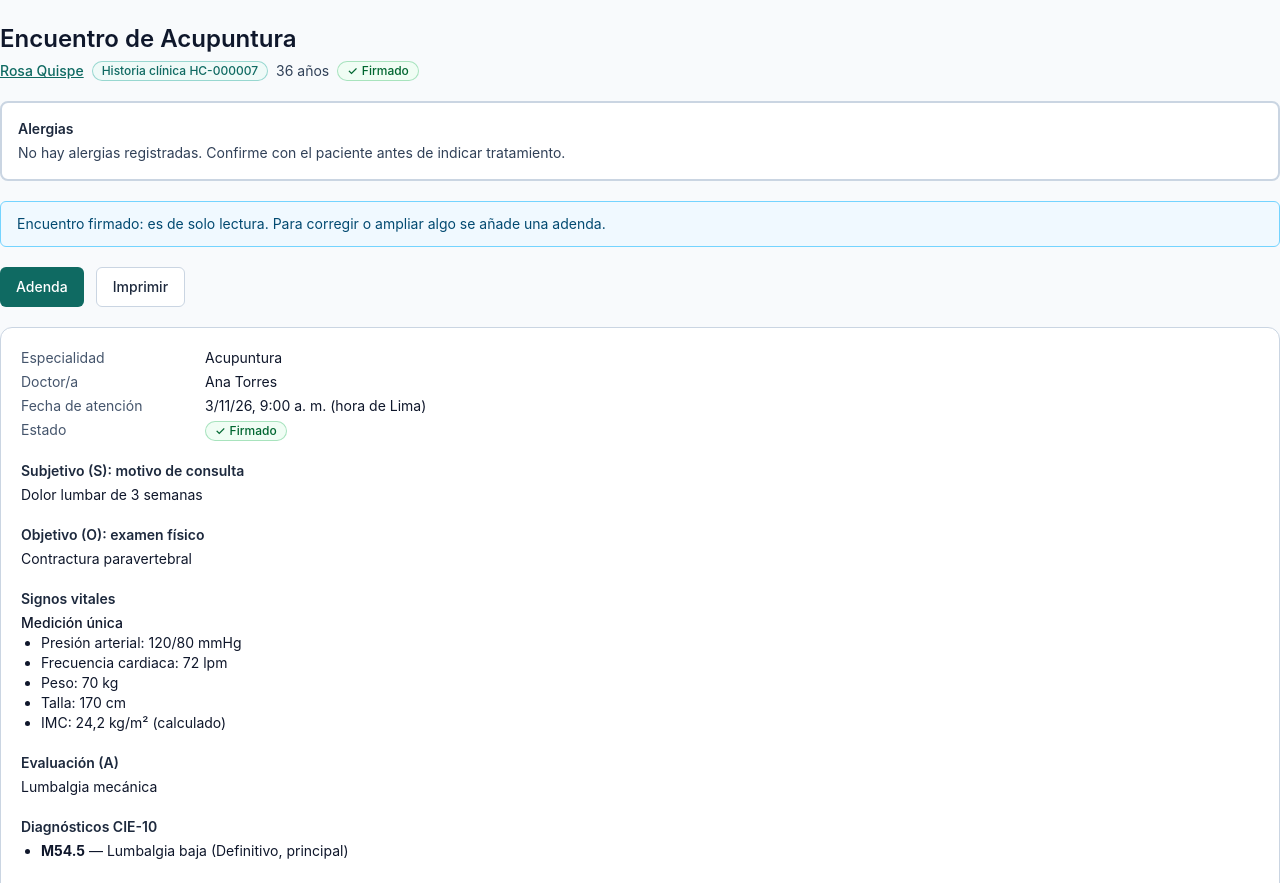
Test case: encuentro firmado: vista de solo lectura › Adenda exige motivo y texto, y al guardar aparece en la lista
Click the button "Adenda" at (42, 287), box [0,267,84,307]
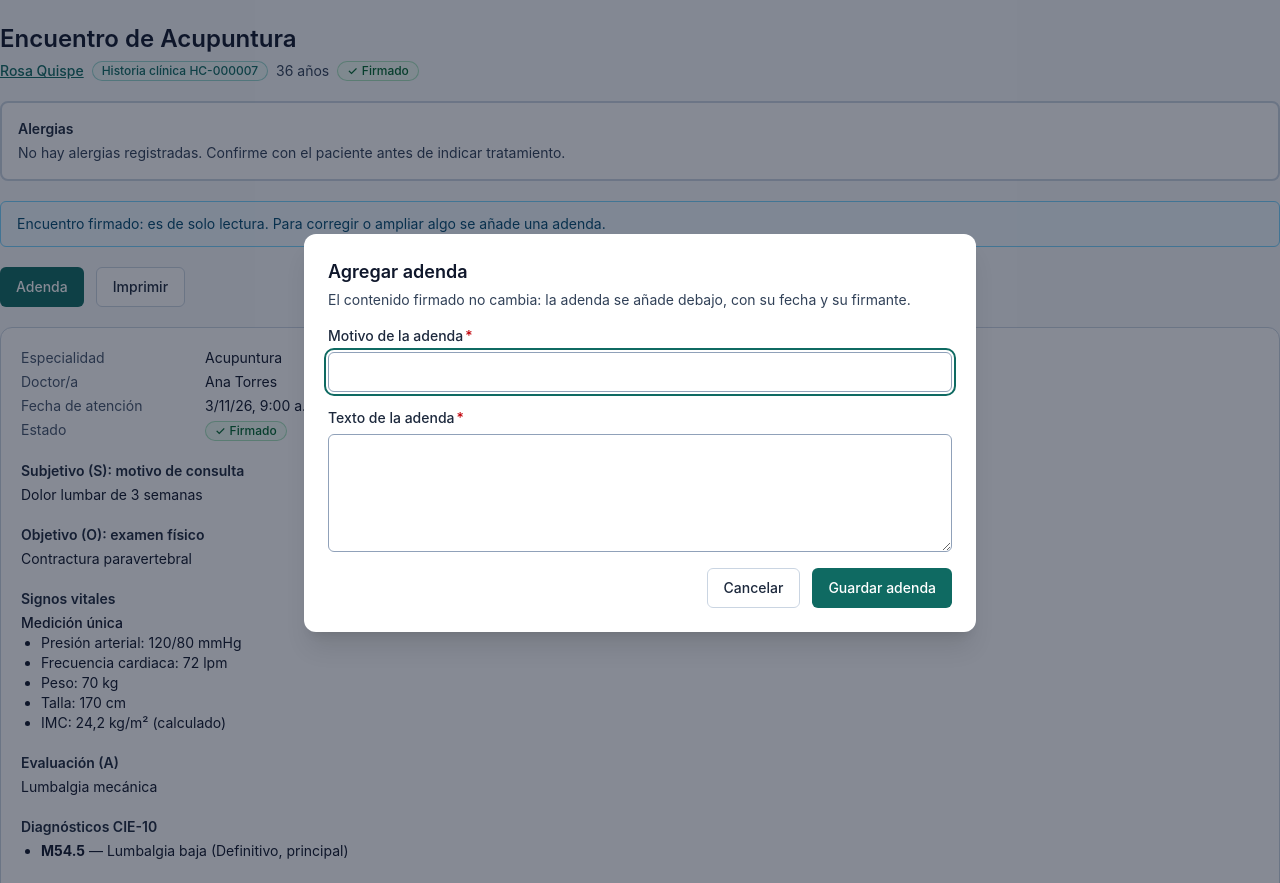
Click the button "Guardar adenda" at (882, 588), box [812,568,952,608]
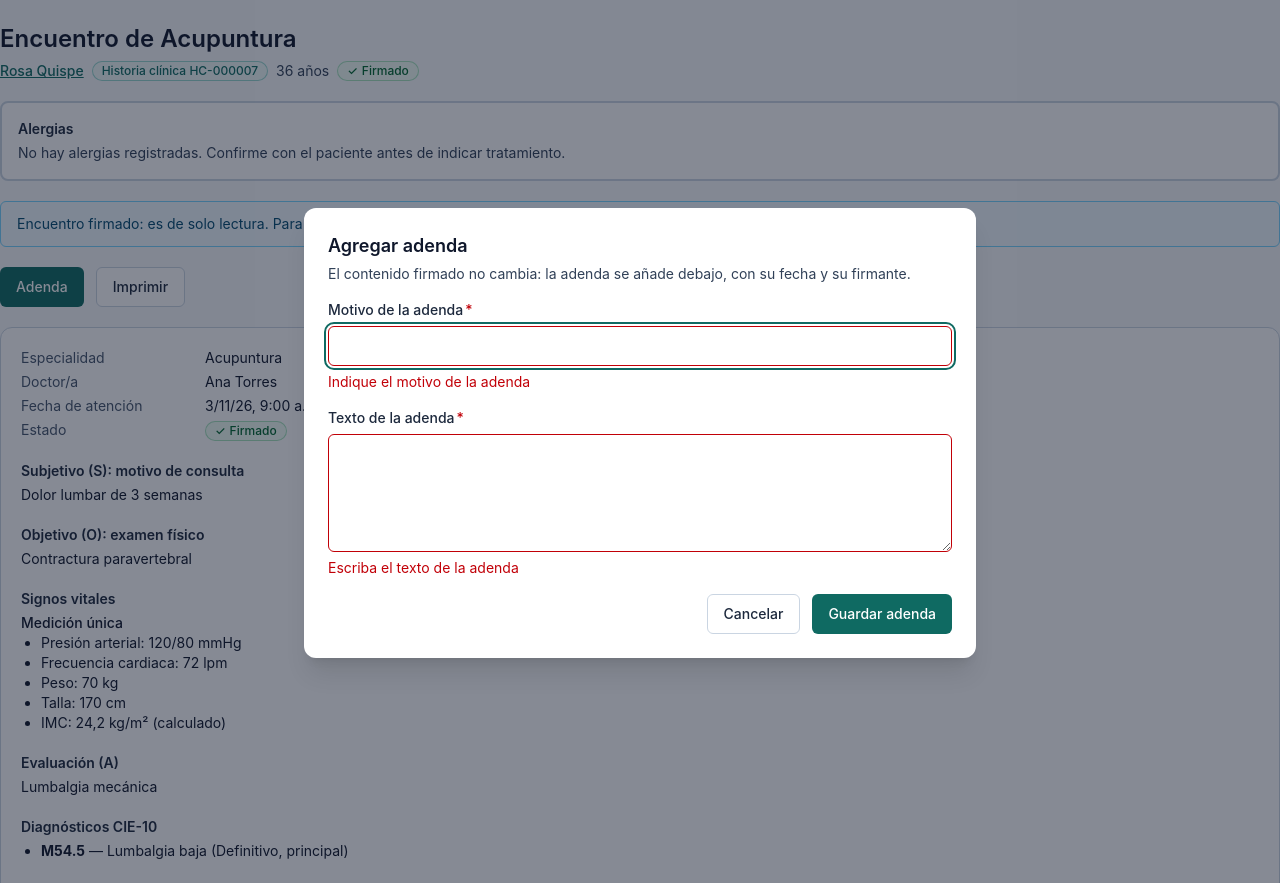
Now the text "Indique el motivo de la adenda" is shown, box [328,373,530,390]
Now the text "Escriba el texto de la adenda" is shown, box [328,559,519,576]
Type "Aclaración" into the field labelled "Motivo de la adenda*" at (640, 346), box [328,326,952,366]
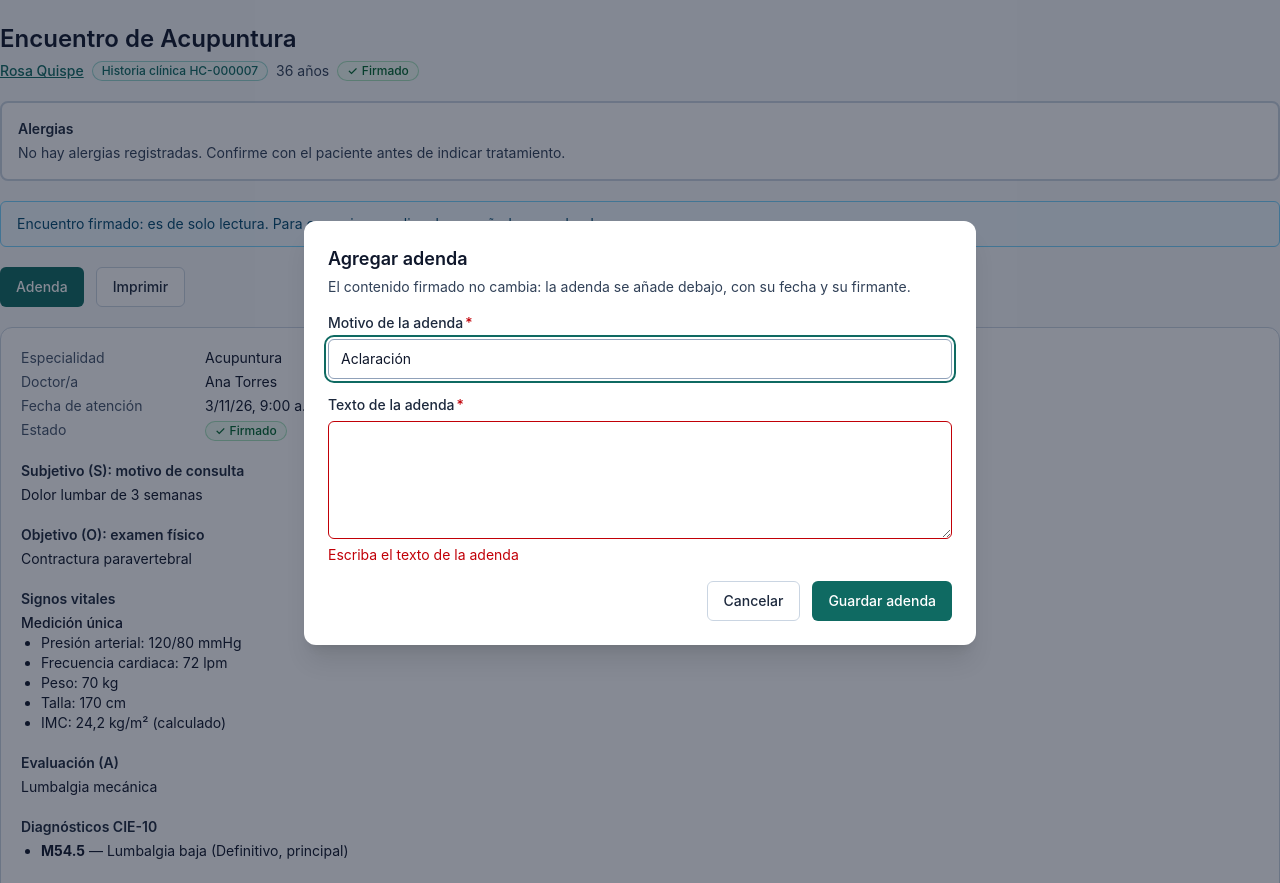
Type "Texto nuevo de la adenda" into the text box labelled "Texto de la adenda*" at (640, 480), box [328,421,952,539]
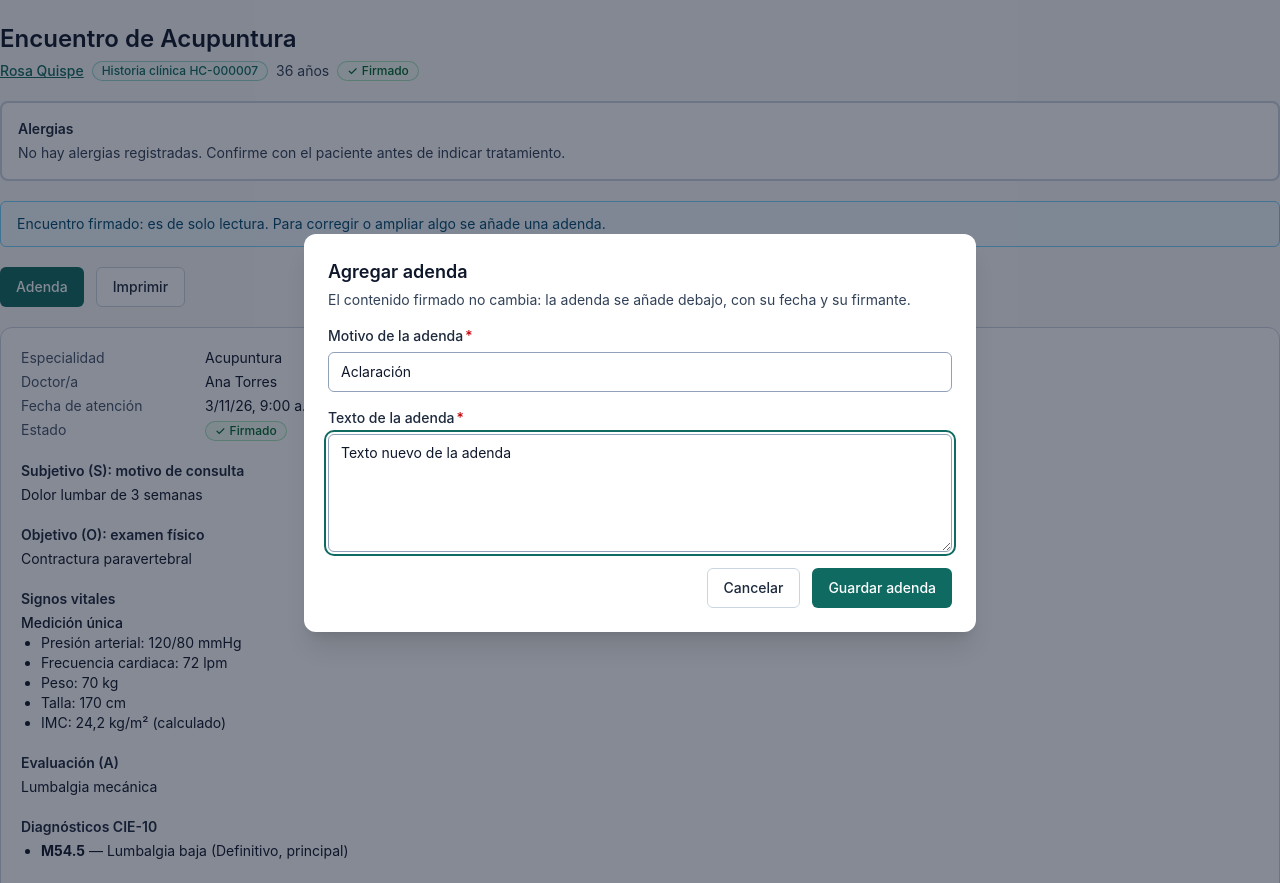
Click the button "Guardar adenda" at (882, 588), box [812,568,952,608]
(page scrolled)
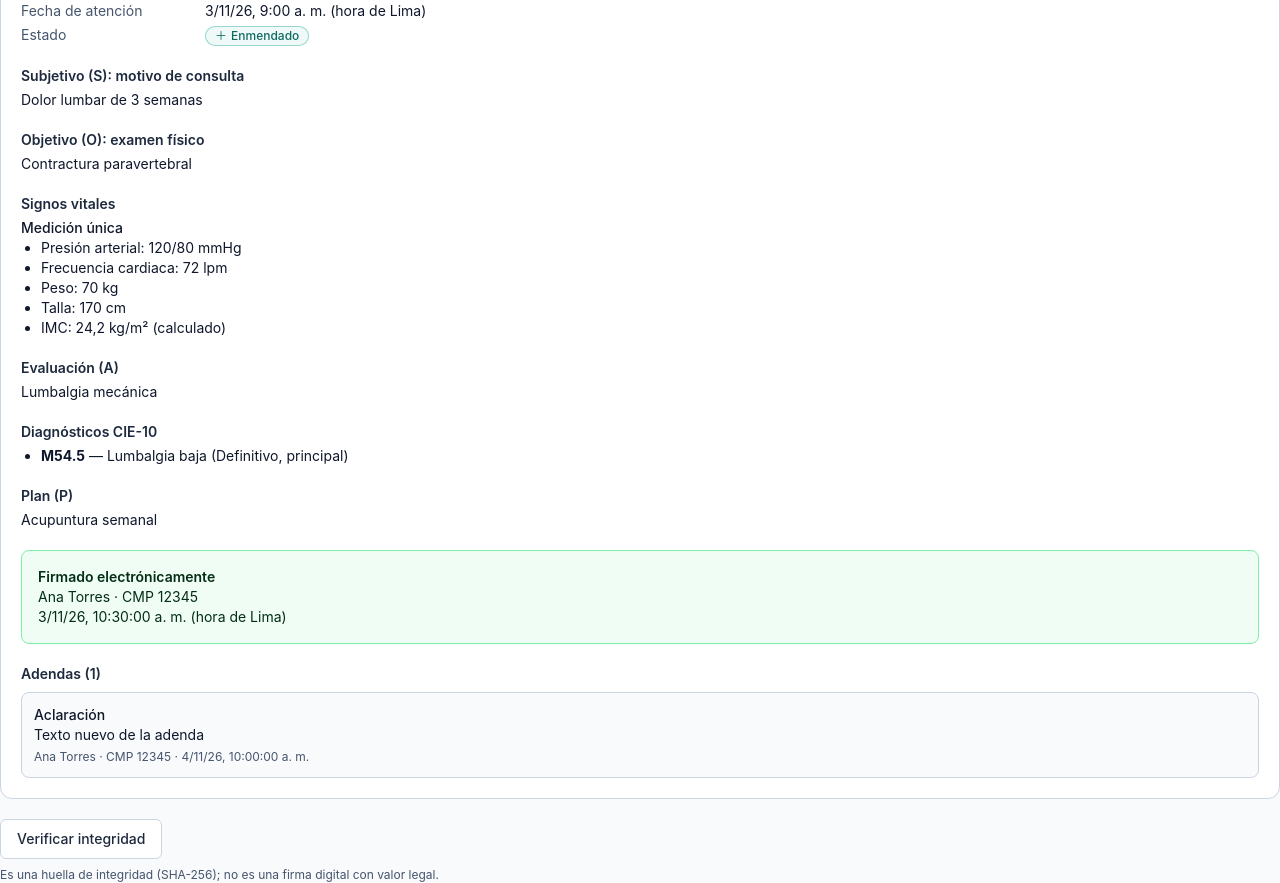
Now the text "Texto nuevo de la adenda" is shown, box [34,726,204,743]
